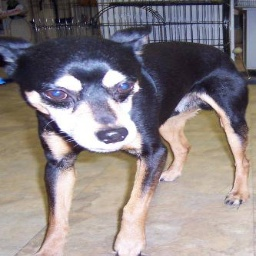dog: (19, 30, 251, 256)
